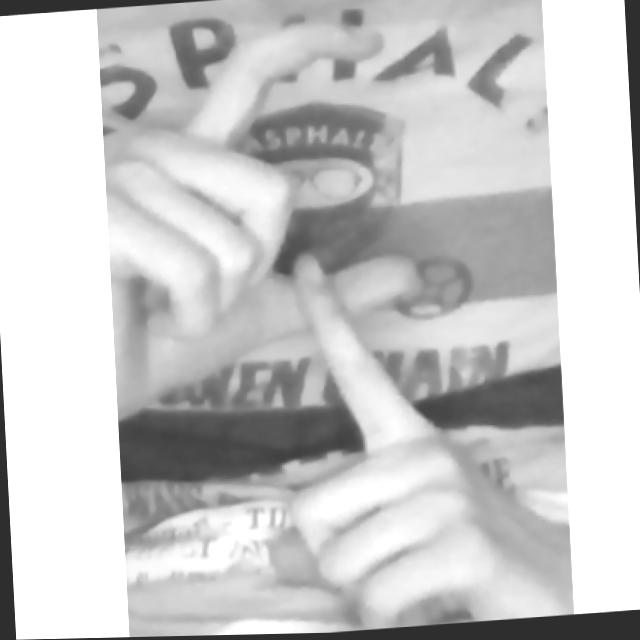C_: (99, 0, 572, 638)
